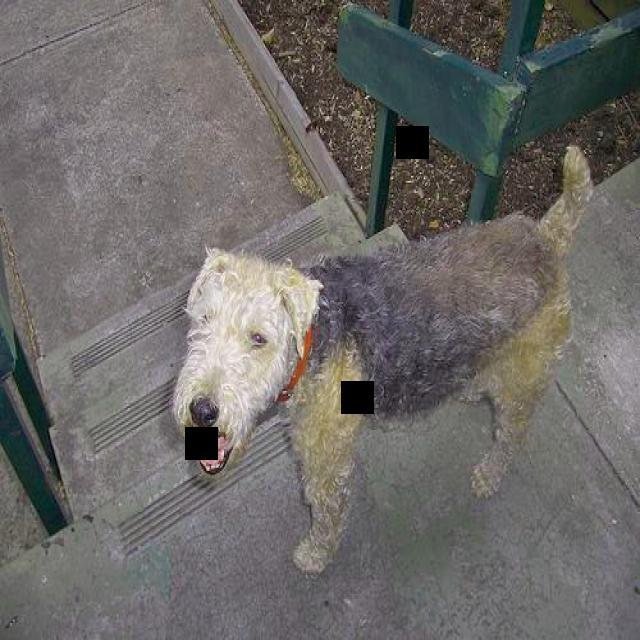adult_dog: (174, 143, 595, 572)
